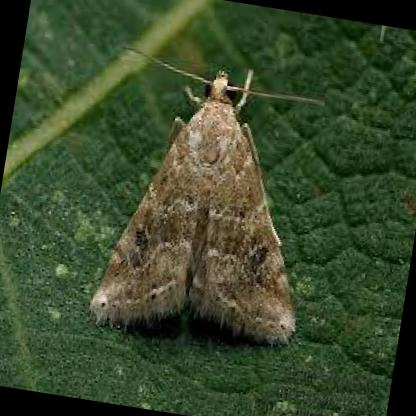Hellula undalis: (81, 34, 336, 348)
